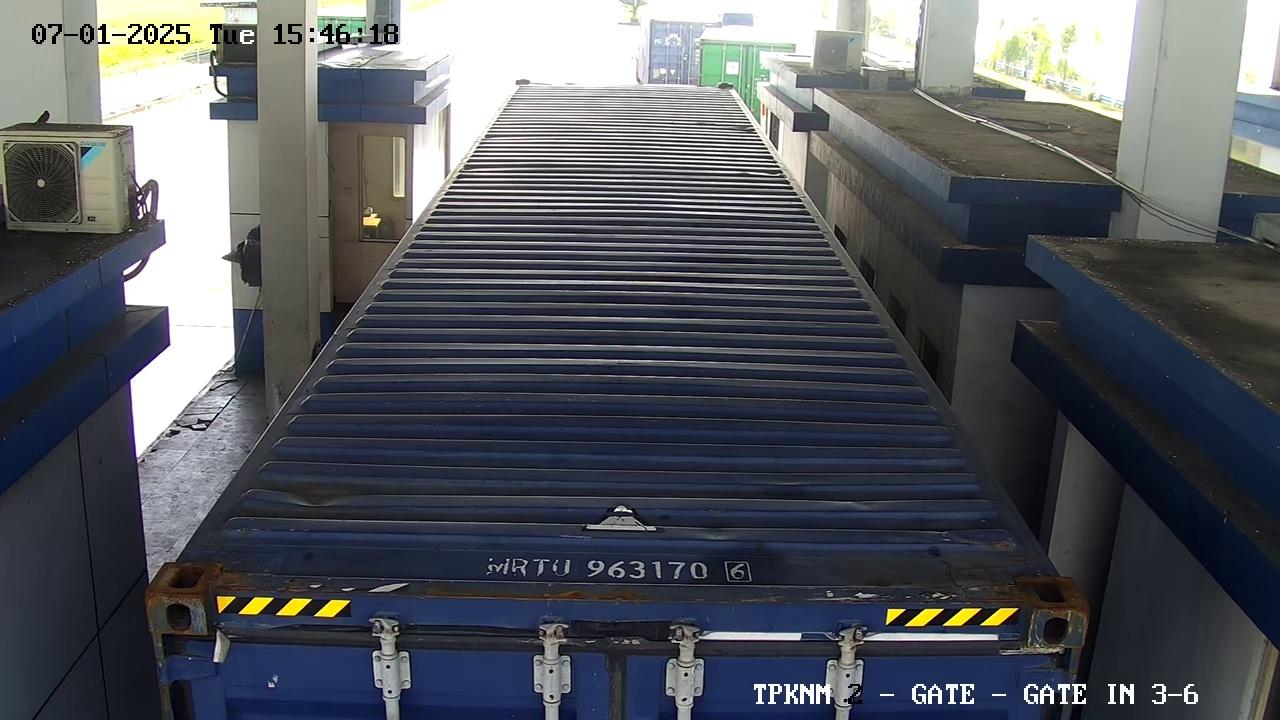Container_ID: (482, 549, 757, 594)
